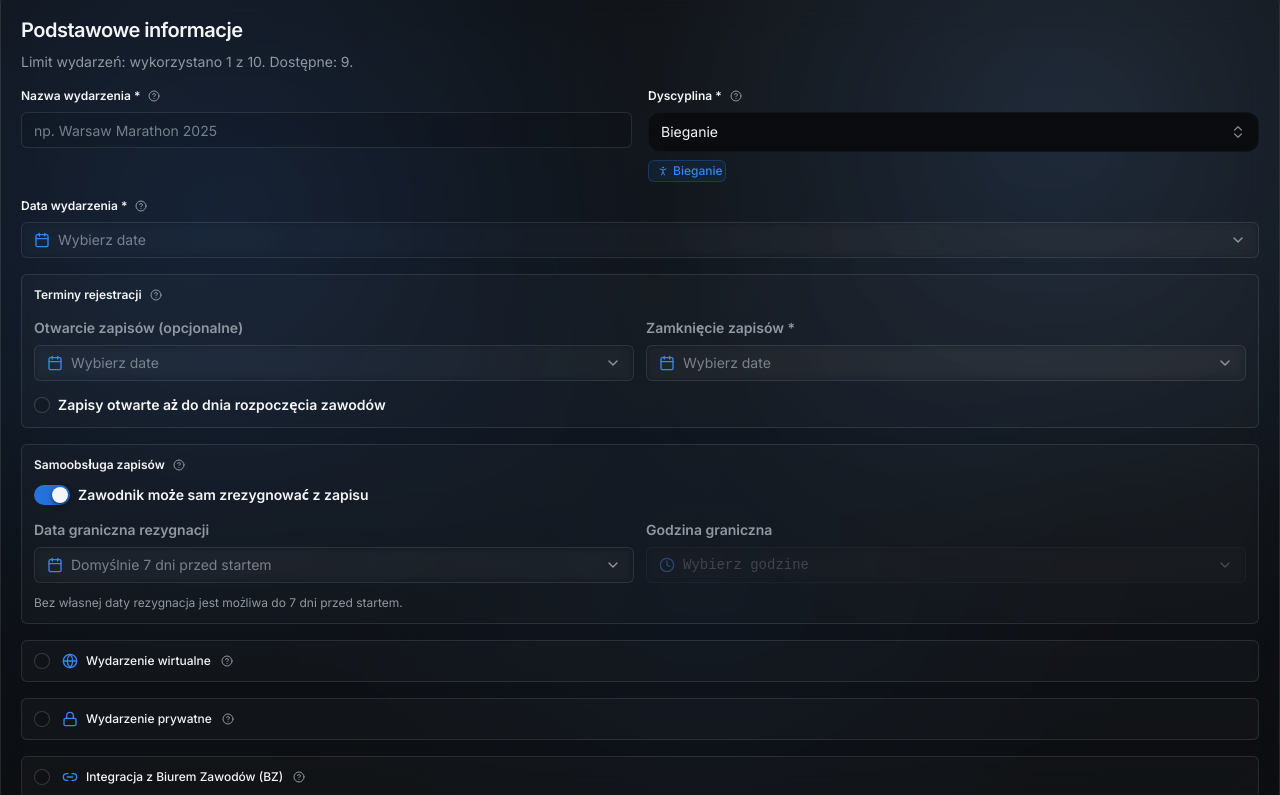
Test case: EventFormStep1 Biuro Zawodow integration section › renders the toggle, hides the token field until enabled, then shows it once the toggle is checked
Check: the field labelled "Token organizacji BZ *" is not shown
Click the checkbox named "Integracja z Biurem Zawodów (BZ)" next to "Integracja z Biurem Zawodów (BZ)": x=42, y=777 [34,769,50,785]
(page scrolled)
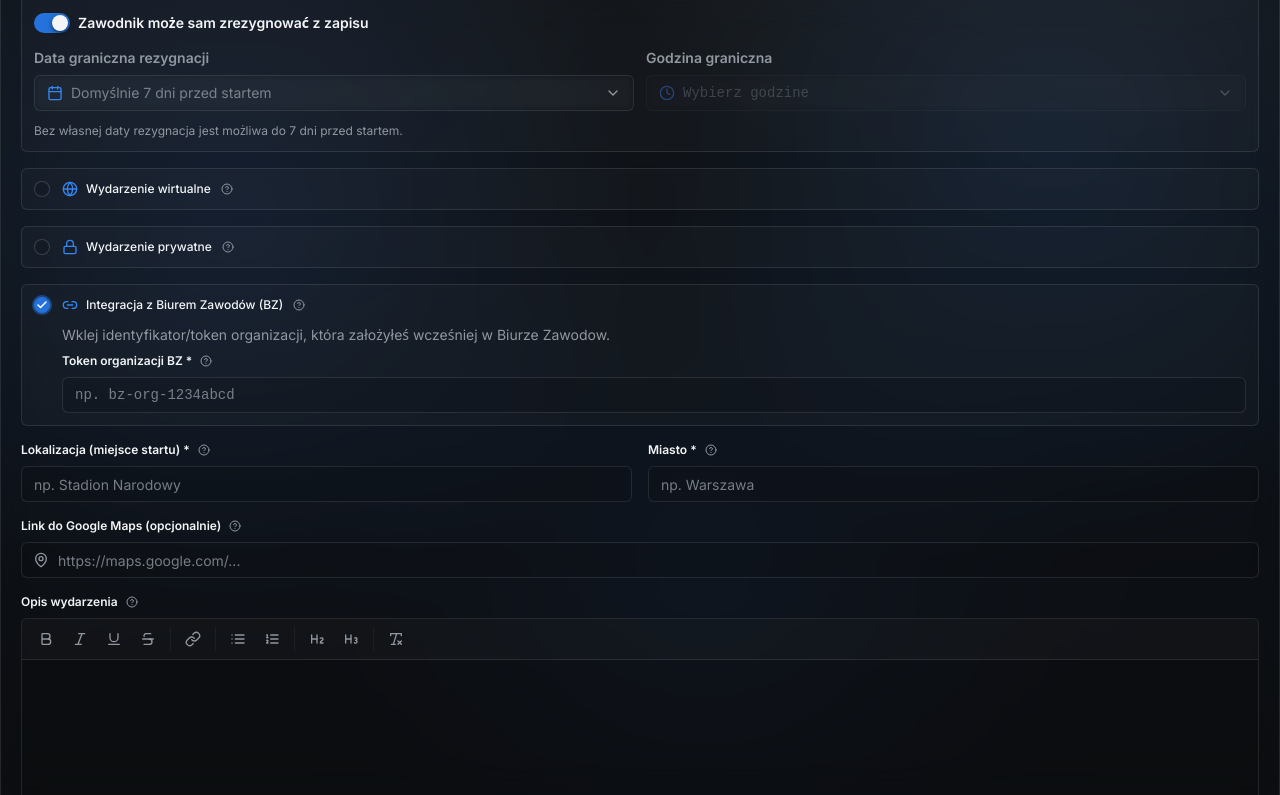
Check: the field labelled "Token organizacji BZ *" is shown, box [62,377,1246,413]
